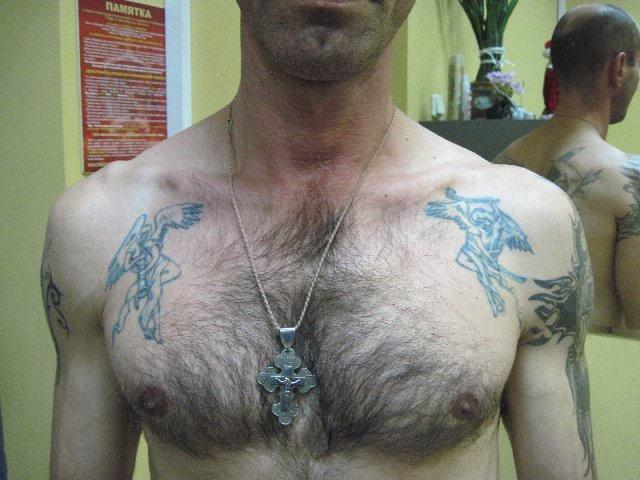tatu1_angel: (89, 201, 209, 348), (412, 184, 540, 314)
